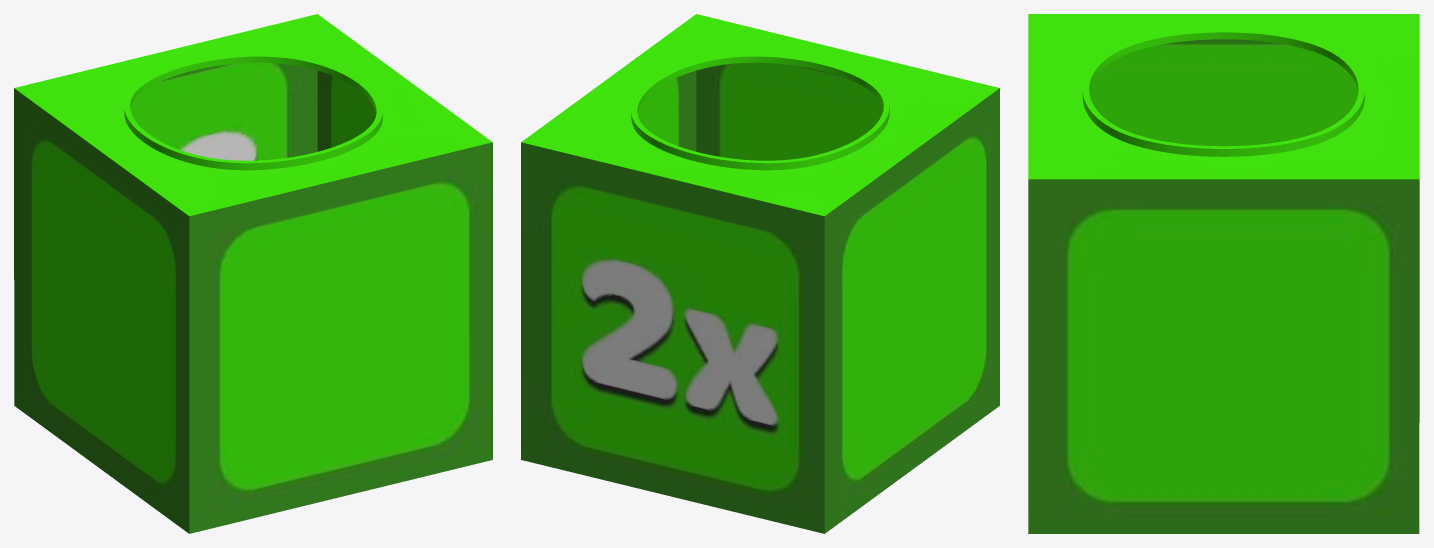
The picture shows the model from 3 angles, left to right: view 1: azimuth 30°, elevation 25°; view 2: azimuth 150°, elevation 25°; view 3: azimuth 270°, elevation 25°; orthographic projection. The views are drawn at different scales.
Parts seen in each view (by area): view 1: 2x; view 2: 2x; view 3: 2x.
Boxes of the visible parts, x1,y1,x2,y2 form: 2x: [14, 14, 492, 533]; 2x: [521, 14, 999, 533]; 2x: [1028, 14, 1419, 533].
Bounding box in the file's own units: 100 × 102 × 100.
